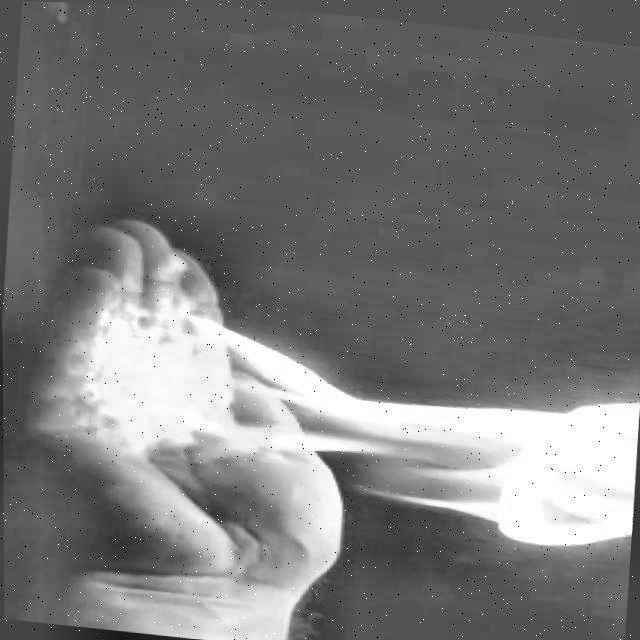Fire: (138, 316, 640, 554)
